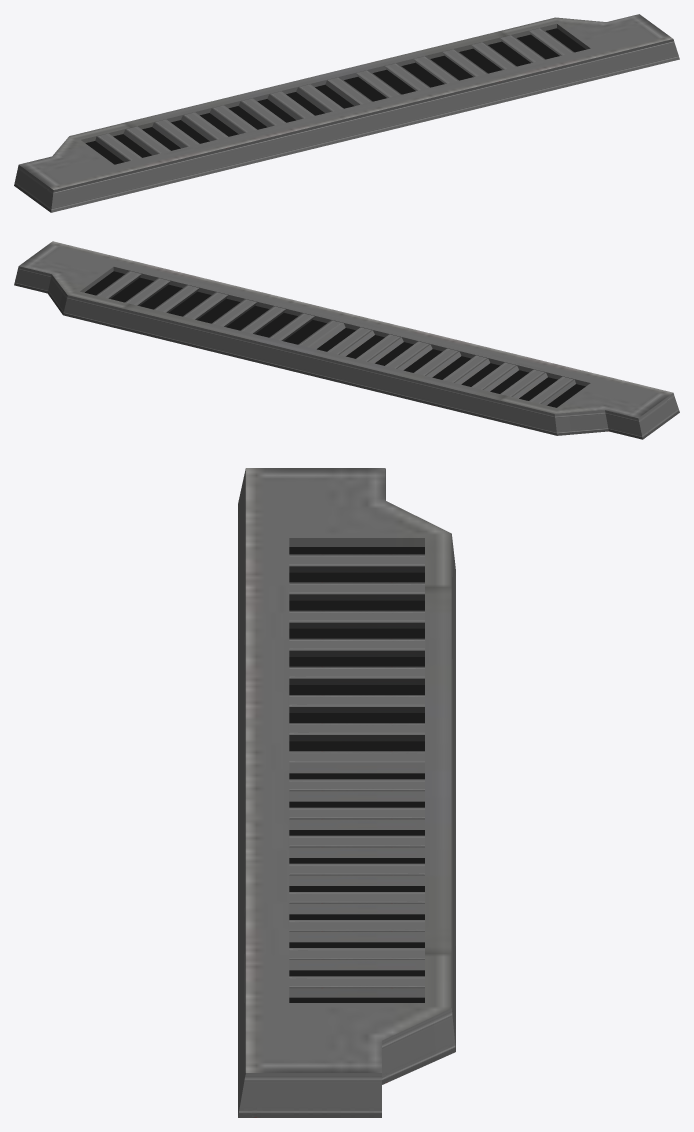
The model's file is sf_vent_wide.glb.
3 views of the same model, one above another, from view 1: azimuth 30°, elevation 25°; view 2: azimuth 150°, elevation 25°; view 3: azimuth 270°, elevation 25° (orthographic). The views are drawn at different scales.
Parts seen in each view (by area): view 1: Prop_Vent_Wide; view 2: Prop_Vent_Wide; view 3: Prop_Vent_Wide.
Part boxes in pixels (bbox=[...]): Prop_Vent_Wide: bbox=[14, 14, 679, 212]; Prop_Vent_Wide: bbox=[14, 241, 679, 439]; Prop_Vent_Wide: bbox=[238, 468, 455, 1117].
Size of the model in its own units: 1.94 by 0.0595 by 0.291.
3 materials, 2 textured.
